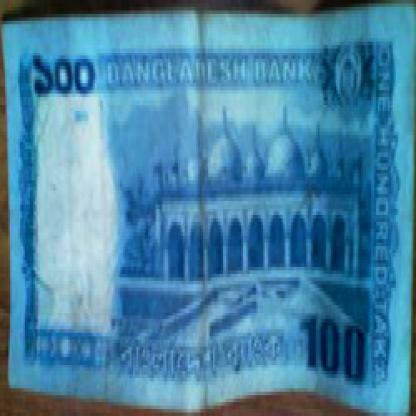one hundred taka: (302, 302, 374, 388), (25, 42, 108, 108)
